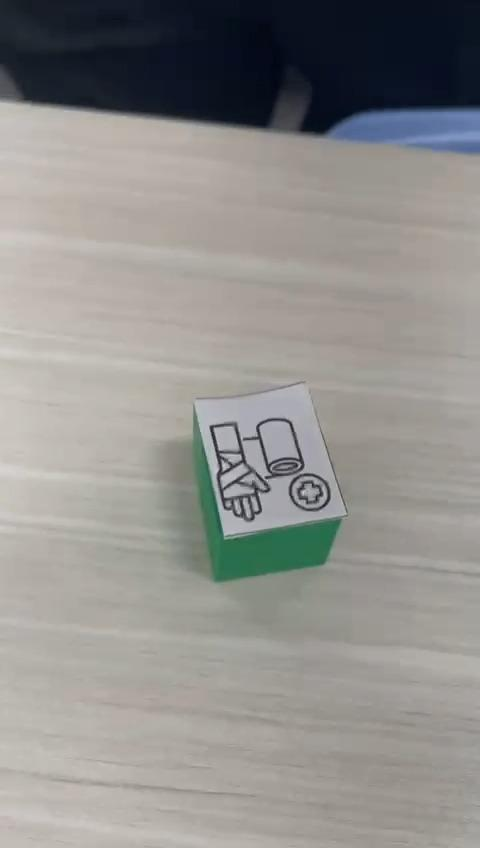Bandages: (193, 380, 349, 582)
